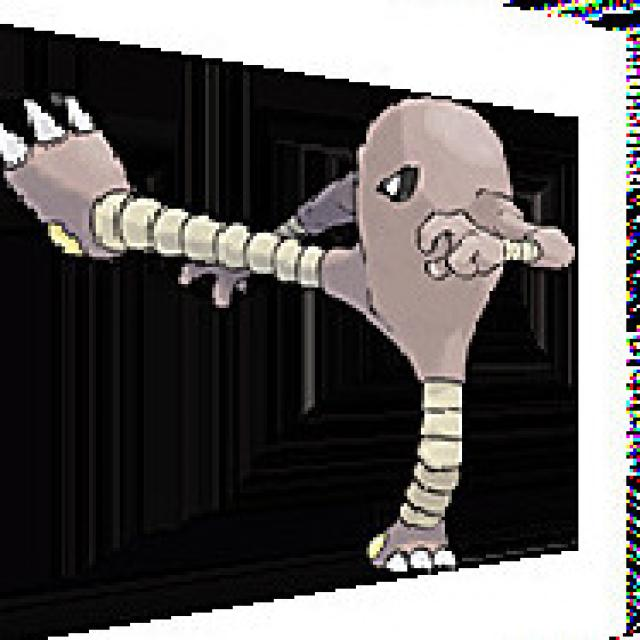Hitmonlee: (192, 99, 547, 565)
